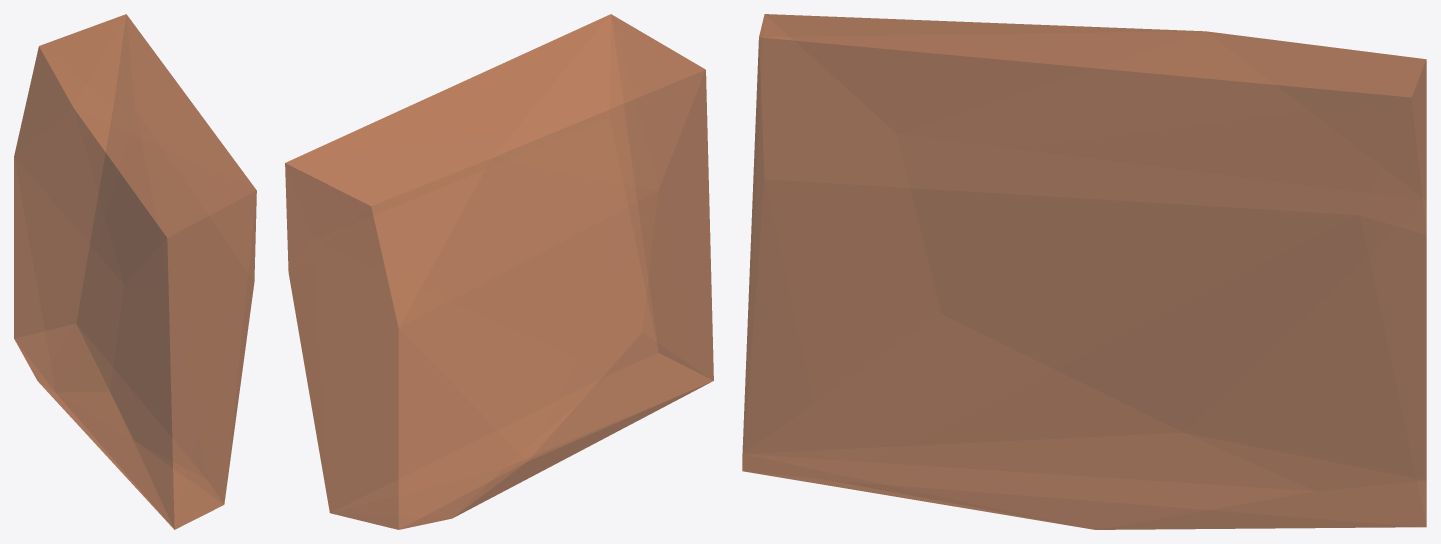
3 views of the same model, side by side, from view 1: azimuth 30°, elevation 25°; view 2: azimuth 150°, elevation 25°; view 3: azimuth 270°, elevation 25° (orthographic). The views are drawn at different scales.
Visible parts, largest first — view 1: Shape_IndexedFaceSet.038_Shape_IndexedFaceSet.11182; view 2: Shape_IndexedFaceSet.038_Shape_IndexedFaceSet.11182; view 3: Shape_IndexedFaceSet.038_Shape_IndexedFaceSet.11182.
Part boxes in pixels (<box>): Shape_IndexedFaceSet.038_Shape_IndexedFaceSet.11182: <box>14,14,256,529</box>; Shape_IndexedFaceSet.038_Shape_IndexedFaceSet.11182: <box>285,14,713,529</box>; Shape_IndexedFaceSet.038_Shape_IndexedFaceSet.11182: <box>742,14,1426,529</box>.
Bounding box in the file's own units: 0.0448 × 0.0827 × 0.1018.
